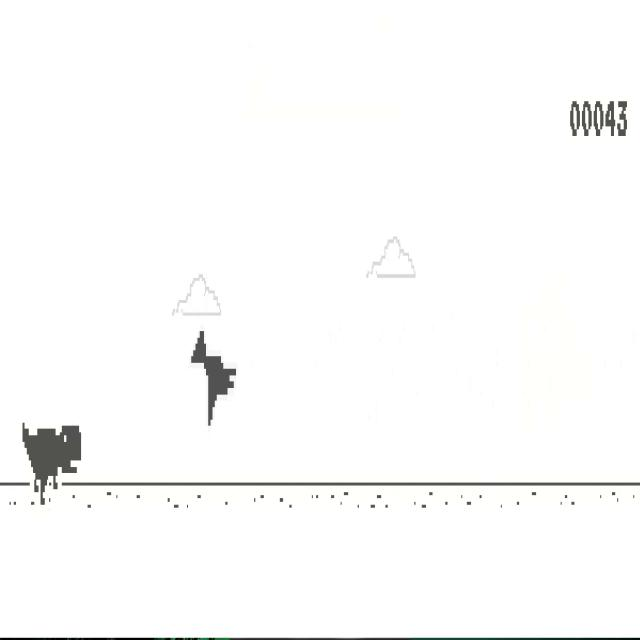dino: (22, 421, 82, 506)
ptero: (190, 328, 237, 427)
